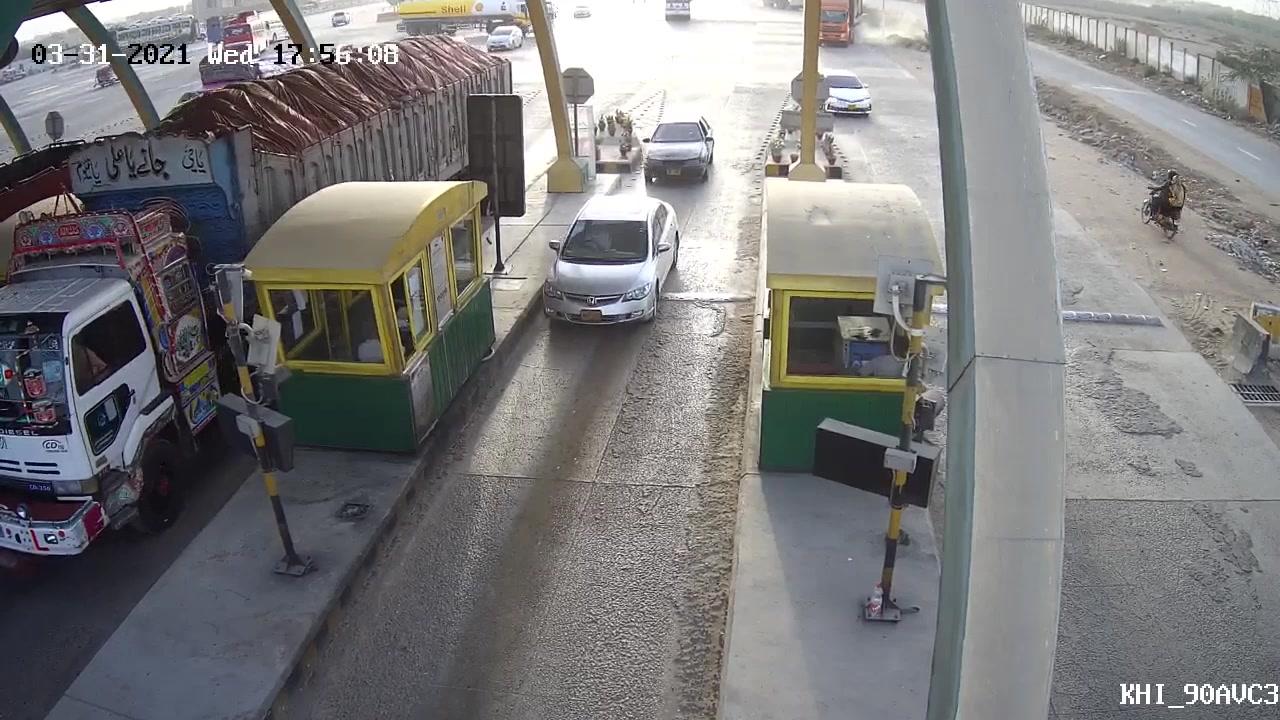F1: (532, 189, 686, 336)
